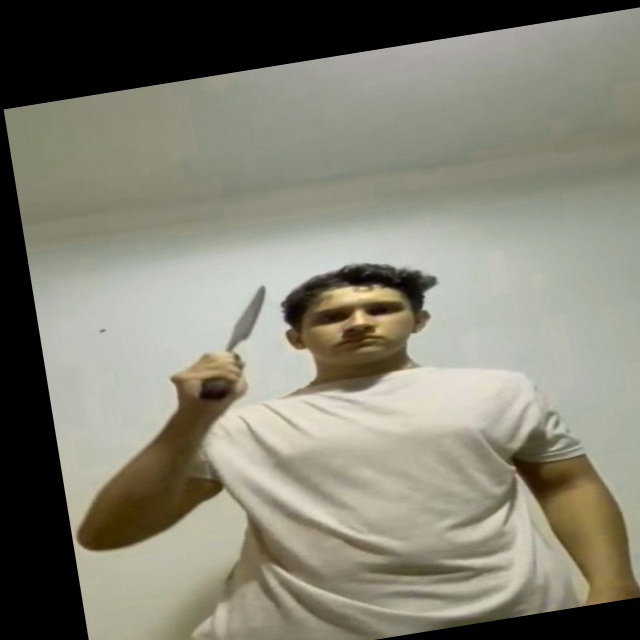Sharp-Object: (221, 285, 280, 346)
